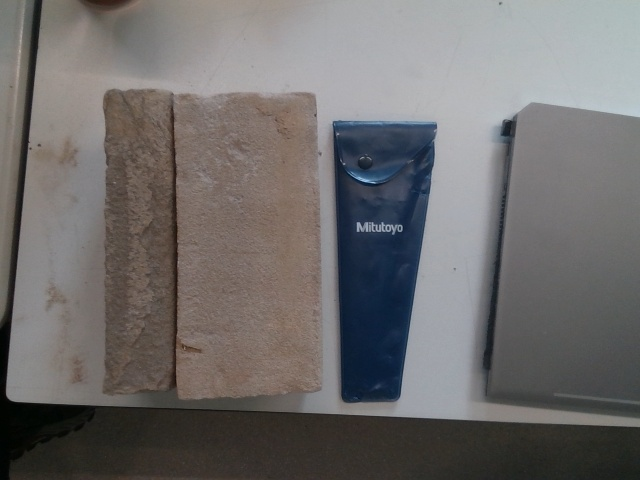brick: (168, 97, 324, 396)
